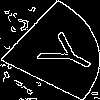Y: (25, 25, 100, 79)
